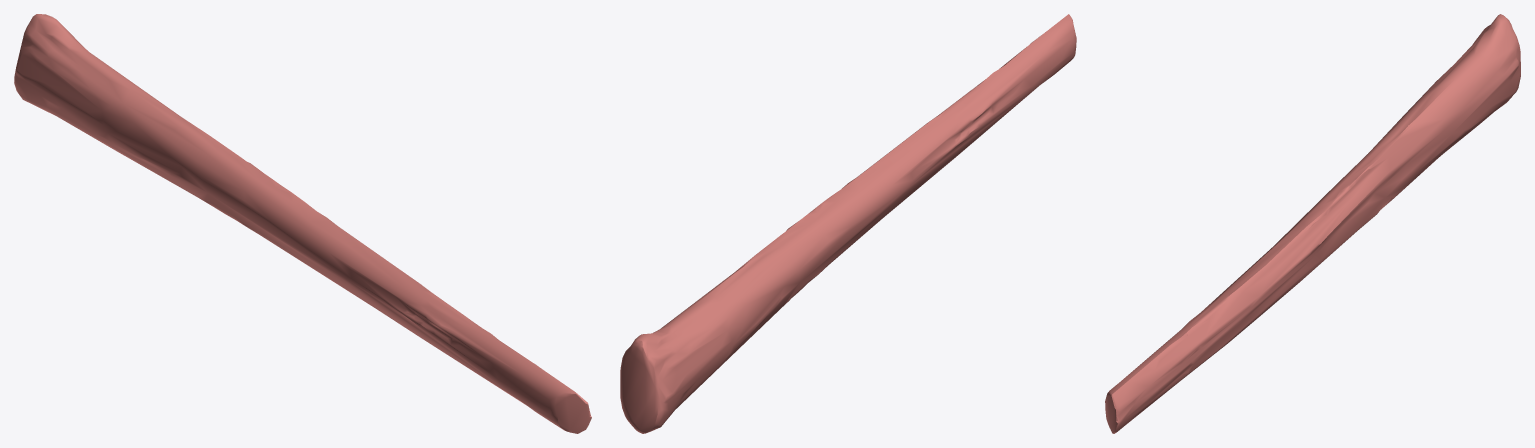
Rendered from fma46592_fj2806.glb.
The picture shows the model from 3 angles, left to right: view 1: azimuth 30°, elevation 25°; view 2: azimuth 150°, elevation 25°; view 3: azimuth 330°, elevation 25°; orthographic projection. The views are drawn at different scales.
Visible parts, largest first — view 1: FMA46592_FJ2806; view 2: FMA46592_FJ2806; view 3: FMA46592_FJ2806.
Boxes of the visible parts, x1,y1,x2,y2 form: FMA46592_FJ2806: (14, 14, 591, 433); FMA46592_FJ2806: (620, 14, 1076, 433); FMA46592_FJ2806: (1105, 14, 1520, 433).
Size of the model in its own units: 0.00159 by 0.00144 by 0.0141.
